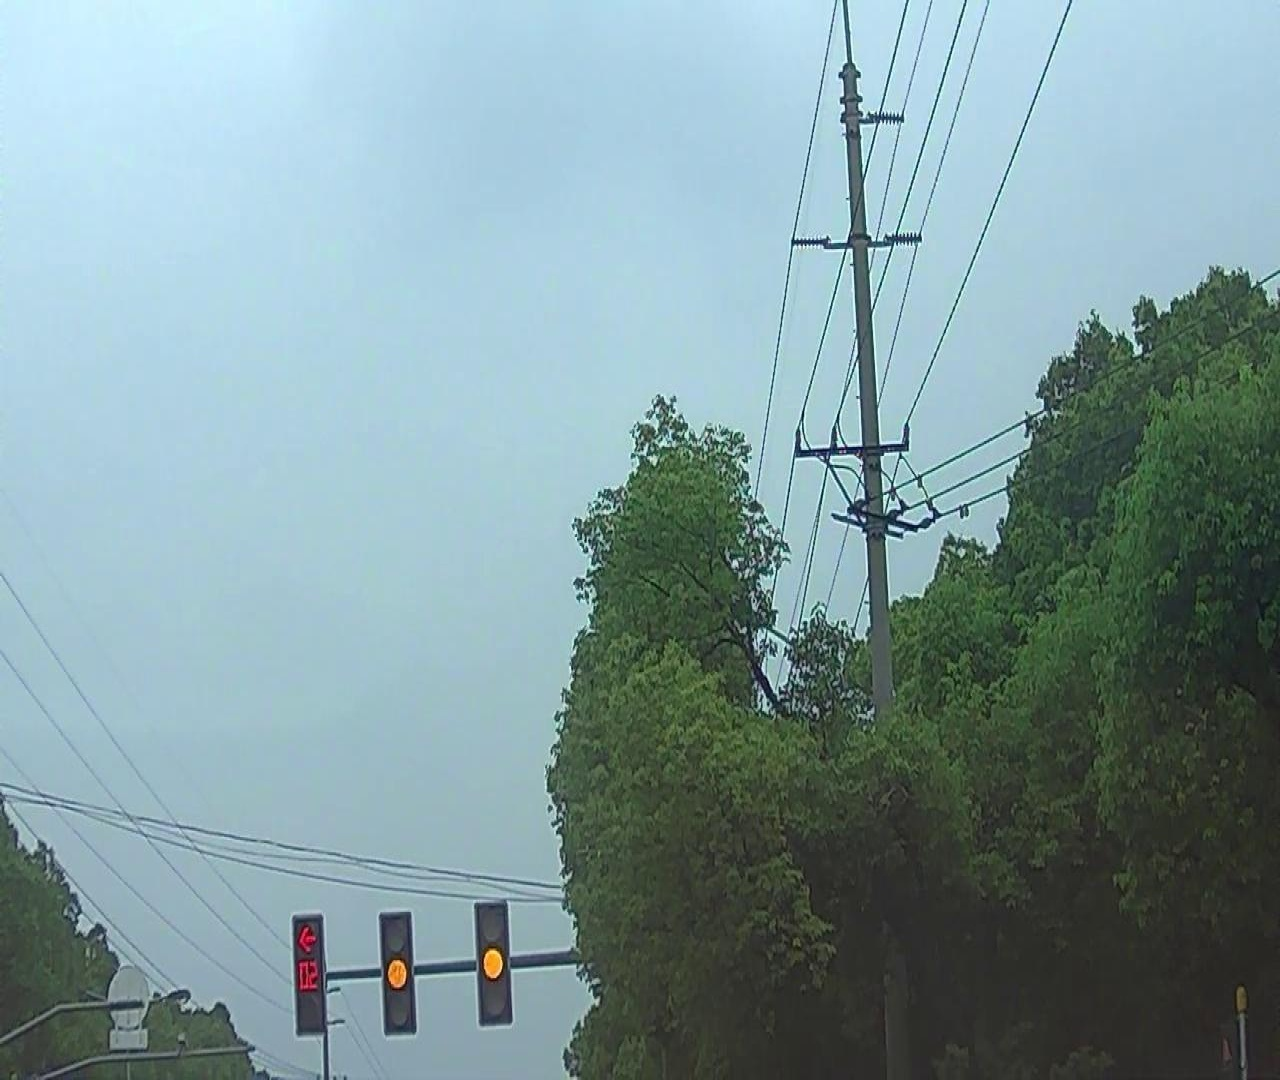red: (293, 919, 323, 1035)
yellow: (476, 903, 513, 1023), (380, 915, 415, 1030)
